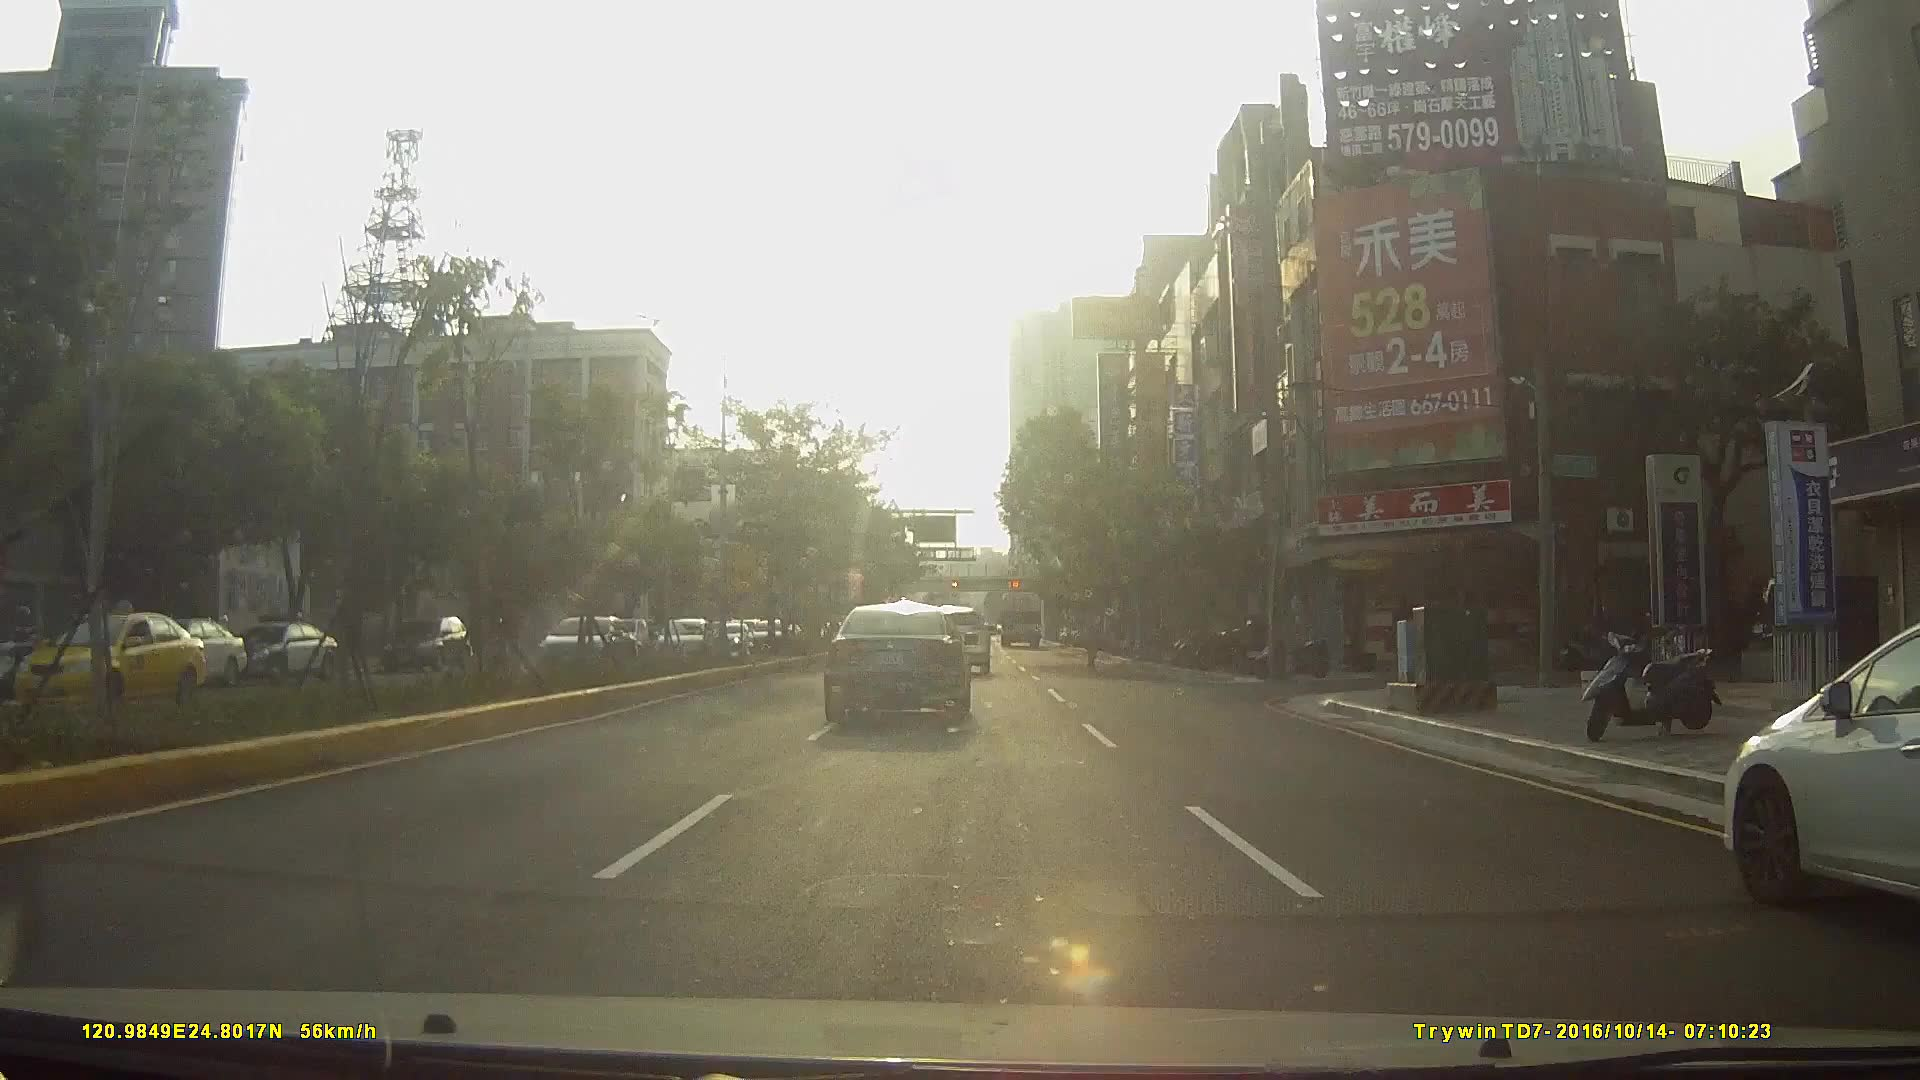vehicle: (1722, 636, 1920, 953), (25, 613, 199, 727), (822, 600, 971, 725), (113, 615, 239, 691), (215, 621, 334, 684), (524, 616, 632, 674), (373, 615, 469, 674), (646, 615, 719, 663), (997, 589, 1044, 651), (597, 620, 641, 659)
